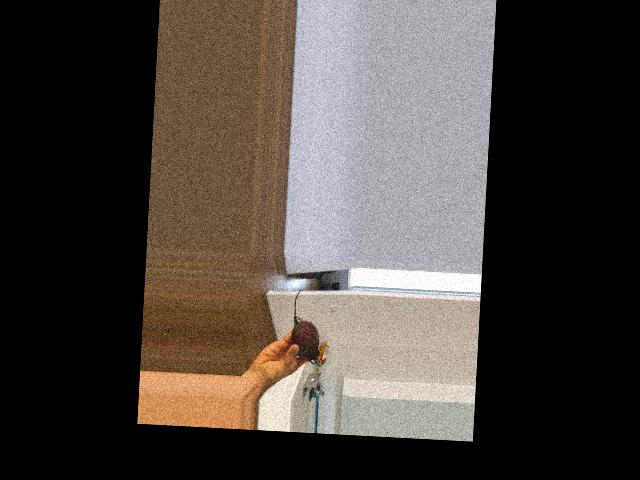beet: (289, 288, 322, 363)
